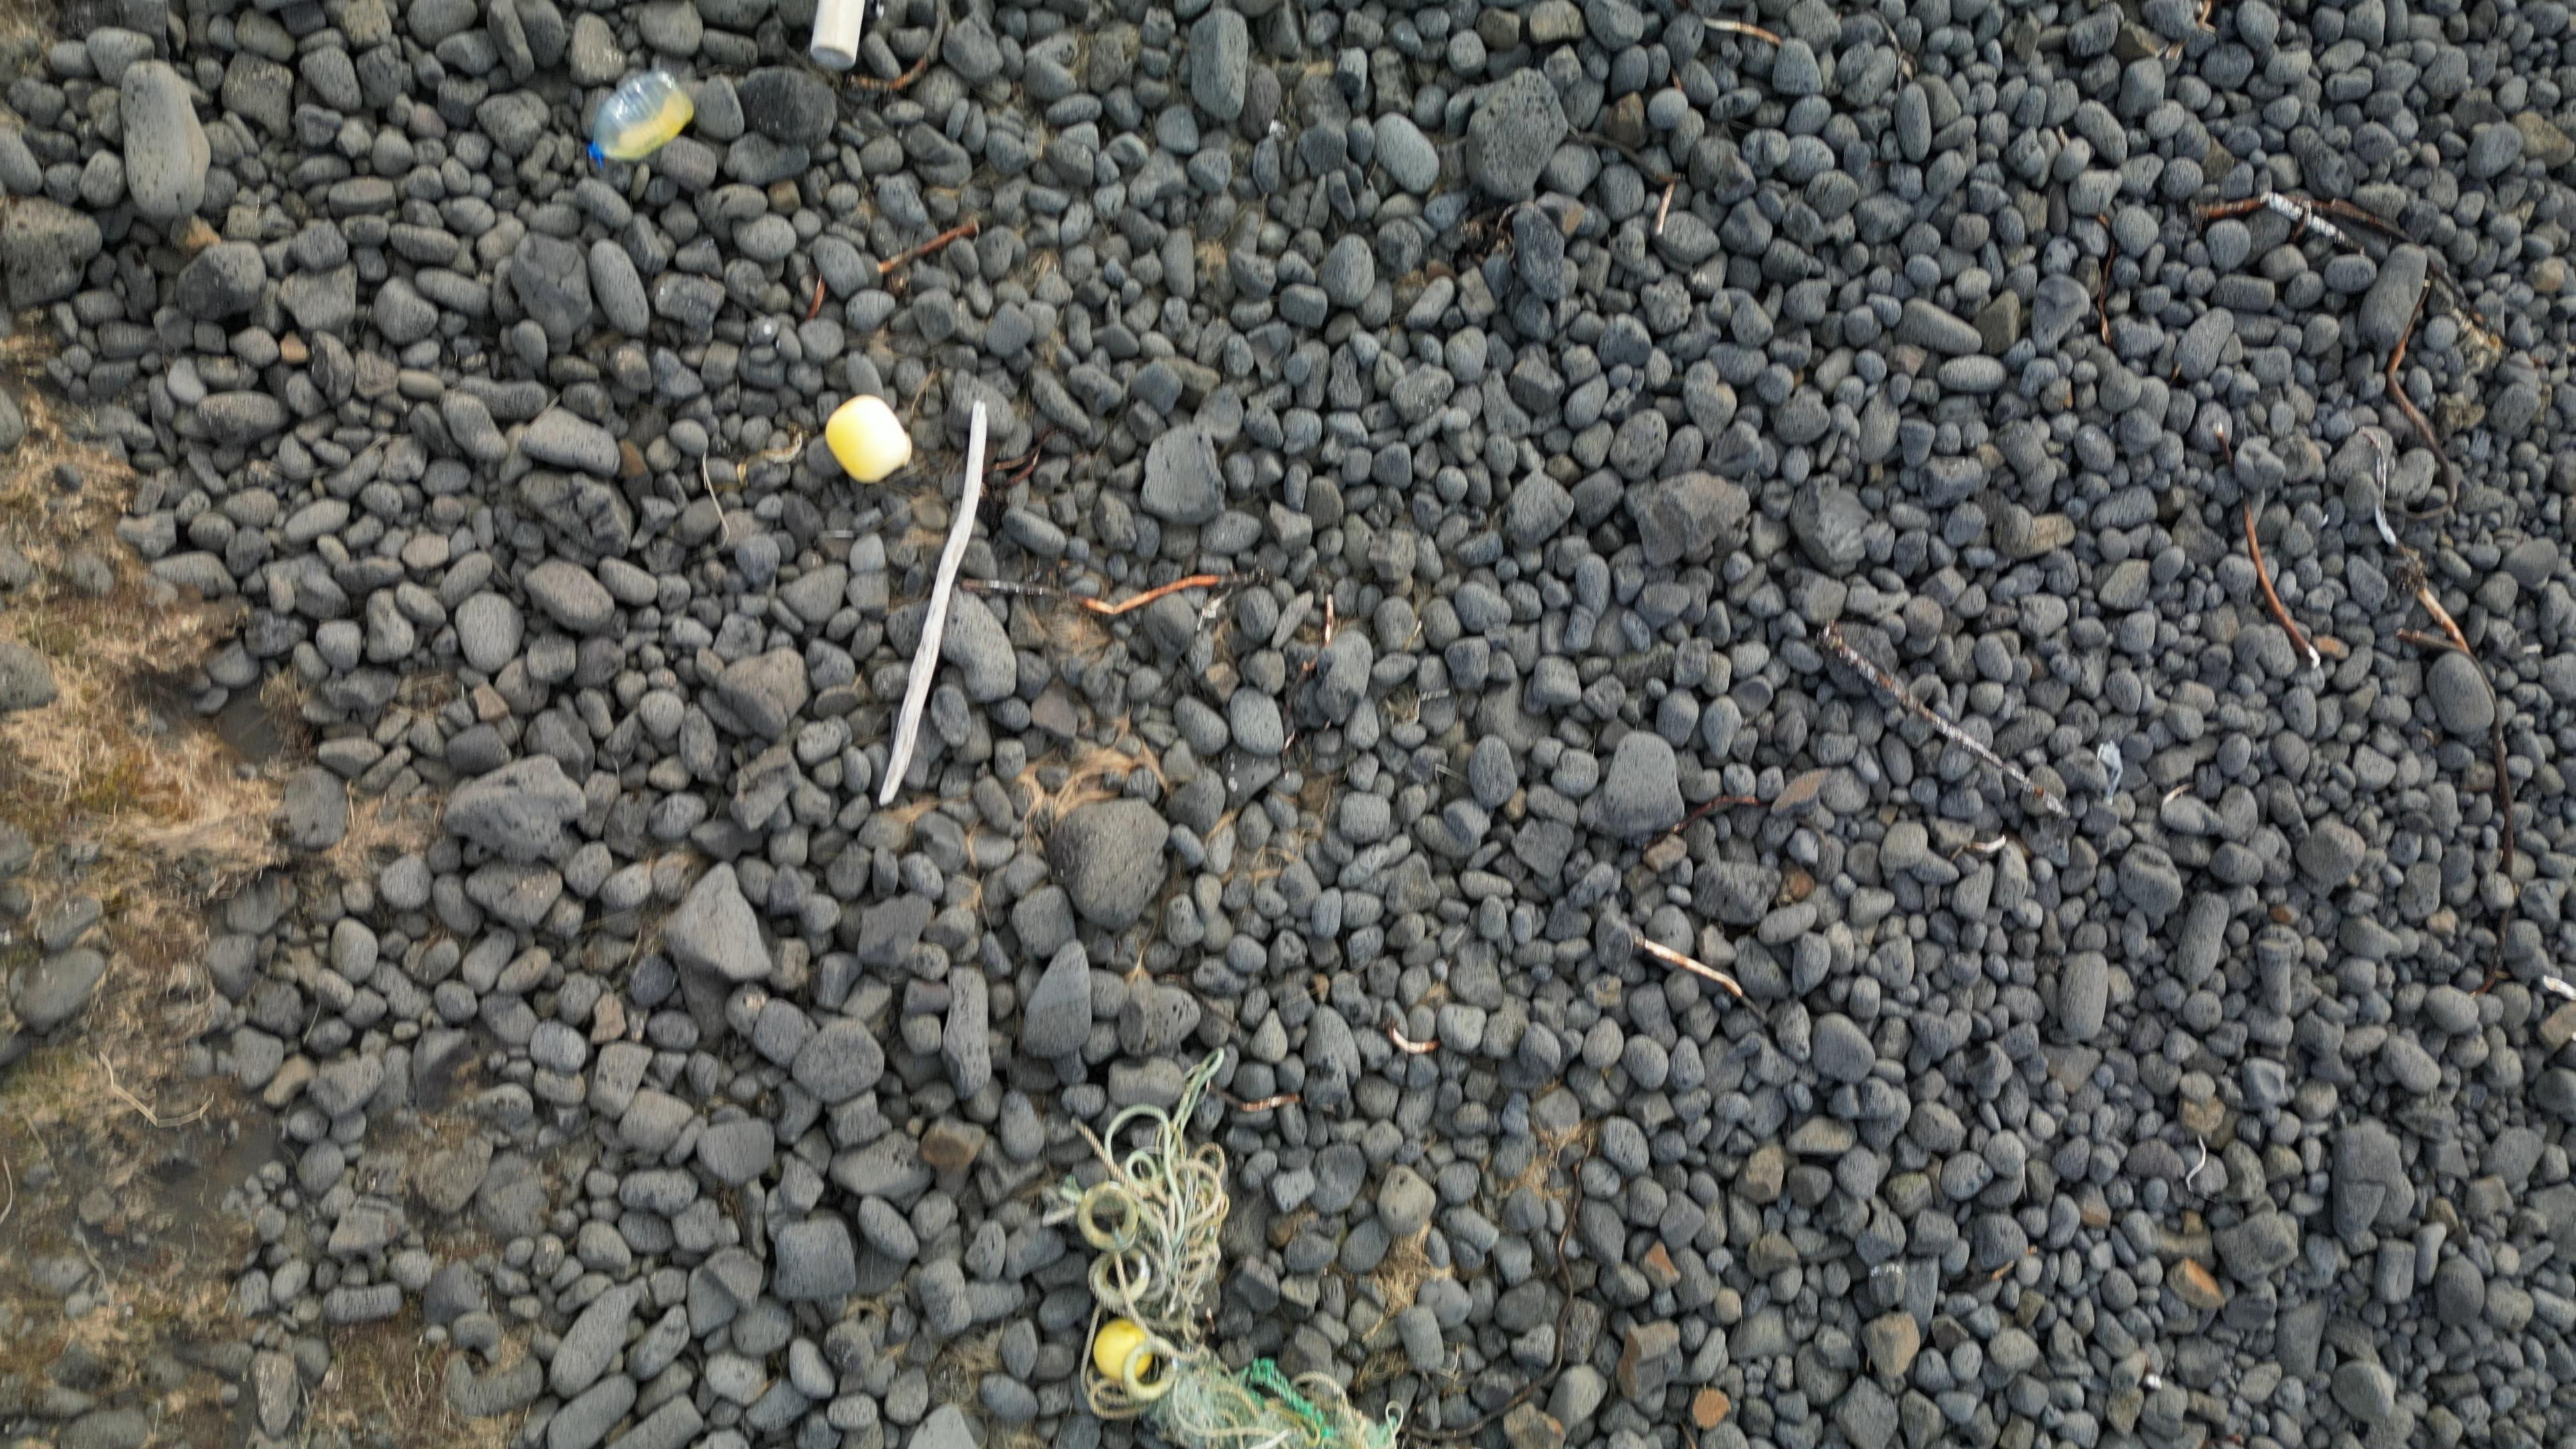trash: (1051, 1051, 1399, 1449), (589, 71, 694, 161), (824, 398, 911, 483)
